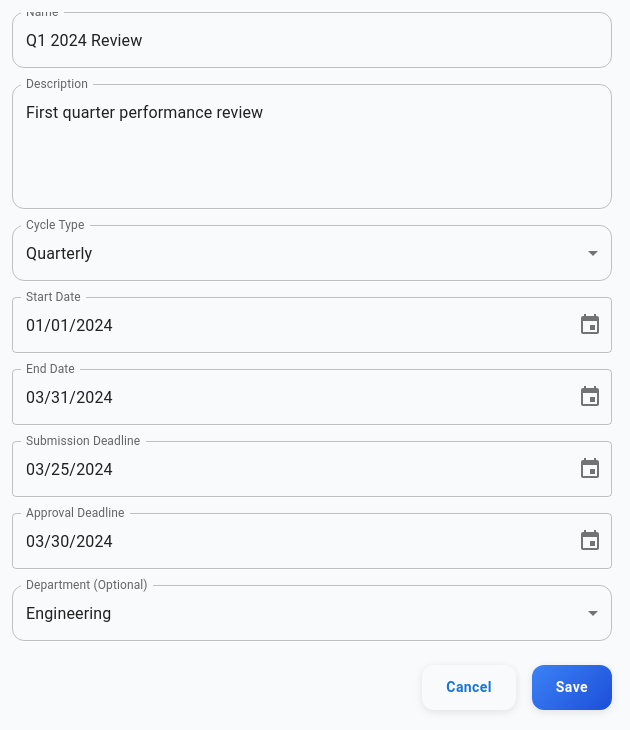
Test: ReviewCycleForm › shows loading state during submission
The width and height of the screenshot is (630, 730).
Click the button "Save".
click(572, 687)  # box 532,665 -> 612,710
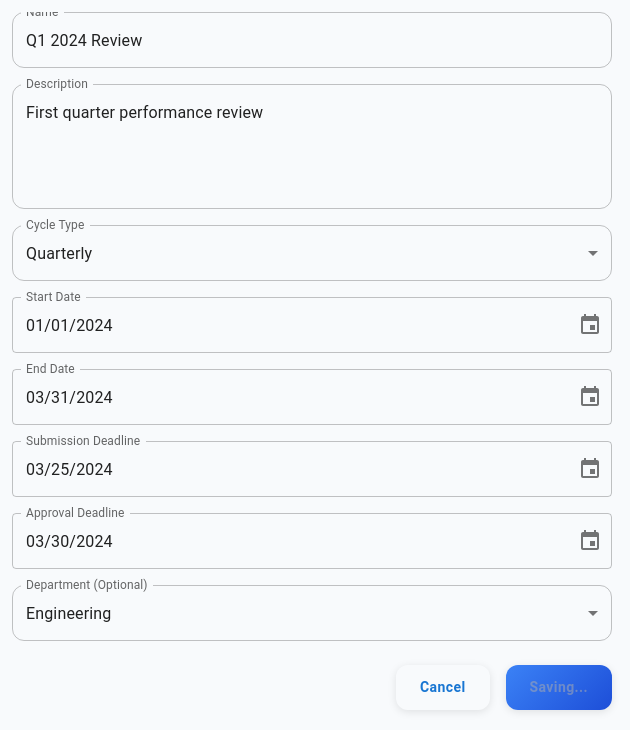
Check: the button "Saving..." is disabled, box 506,665 -> 612,710
